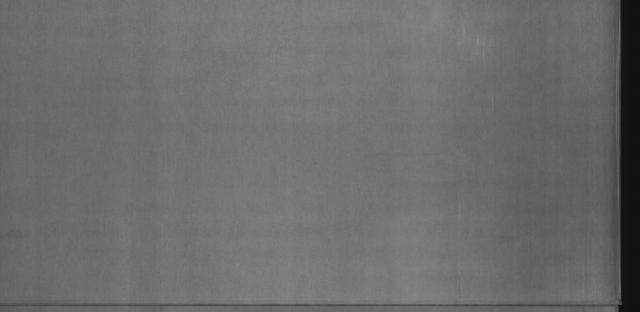welding_line: (3, 300, 636, 310)
